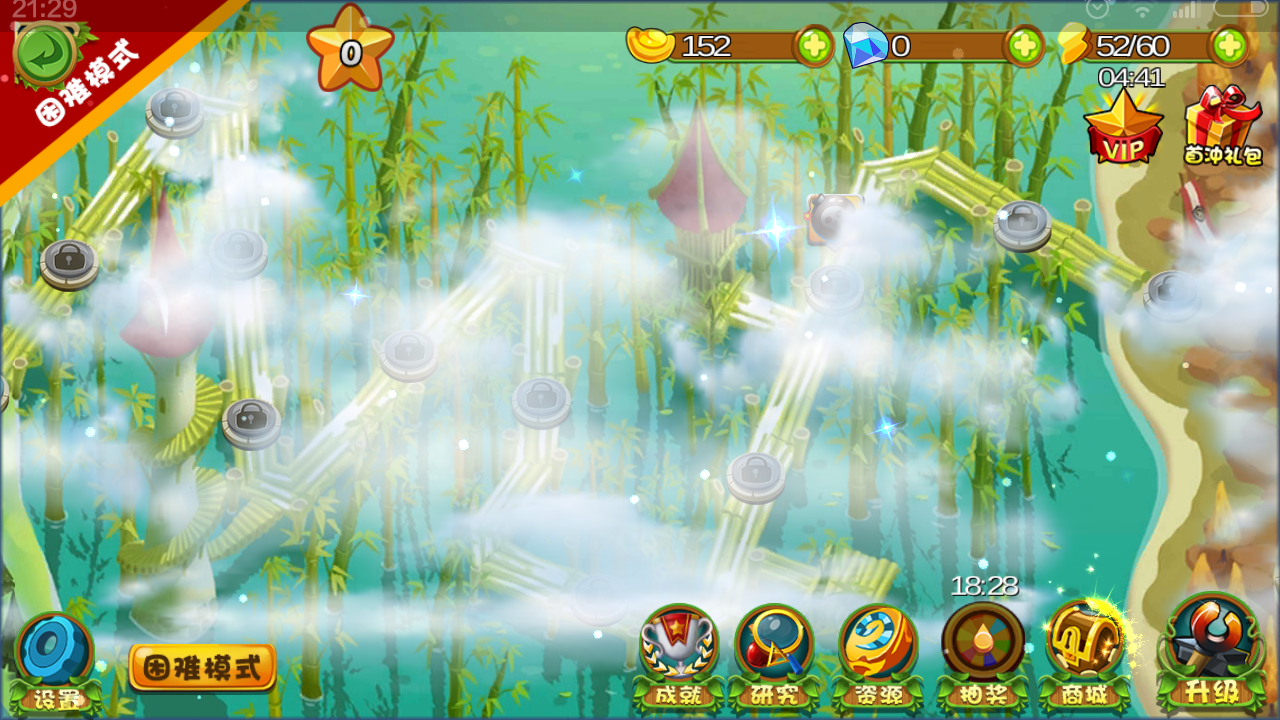button: (122, 633, 288, 698), (633, 673, 722, 715)
imgbutton: (1211, 24, 1253, 69)
